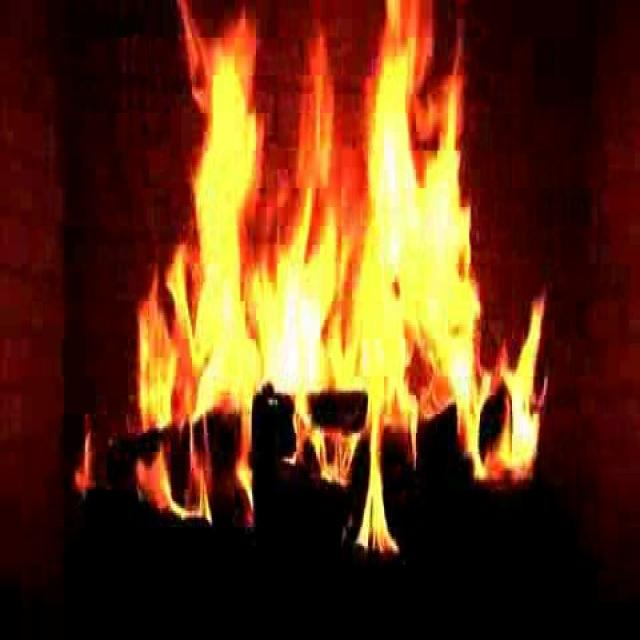fire: (135, 24, 509, 514)
